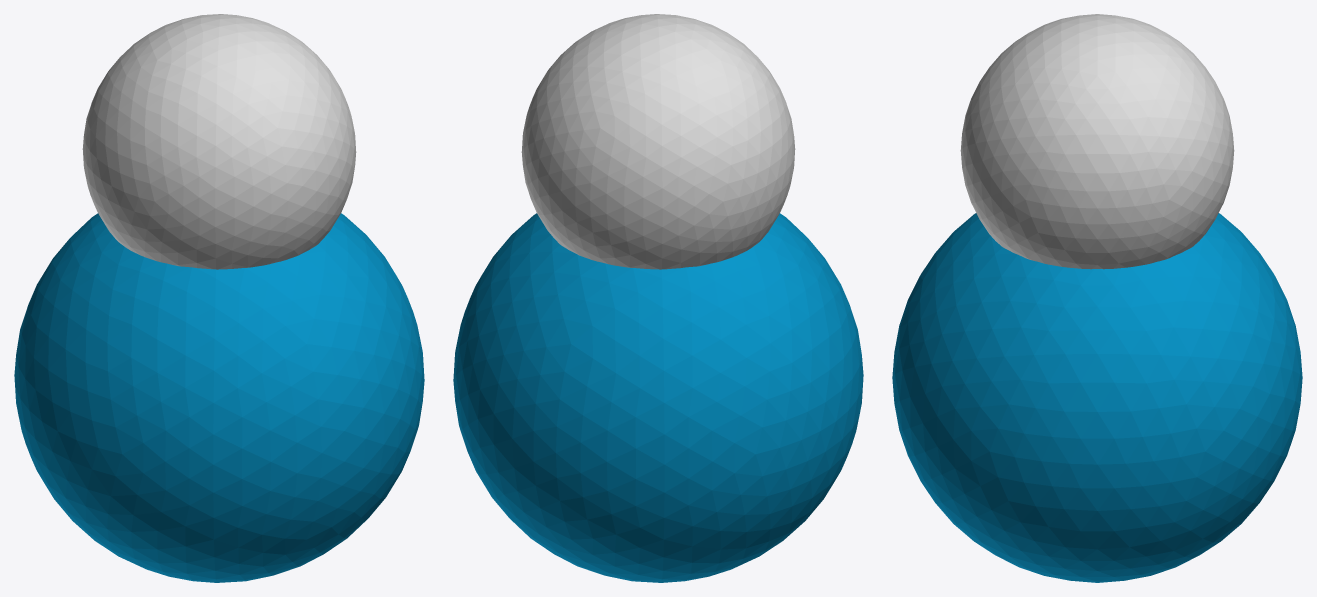
The model's file is doraemon_model.glb.
3 views of the same model, side by side, from view 1: azimuth 30°, elevation 25°; view 2: azimuth 150°, elevation 25°; view 3: azimuth 270°, elevation 25° (orthographic).
Parts seen in each view (by area): view 1: world; view 2: world; view 3: world.
Part boxes in pixels (x1,y1,x2,y2): world: (14, 14, 424, 582); world: (453, 14, 863, 582); world: (892, 14, 1302, 582).
Bounding box in the file's own units: 1.8 × 2.6 × 1.8.
